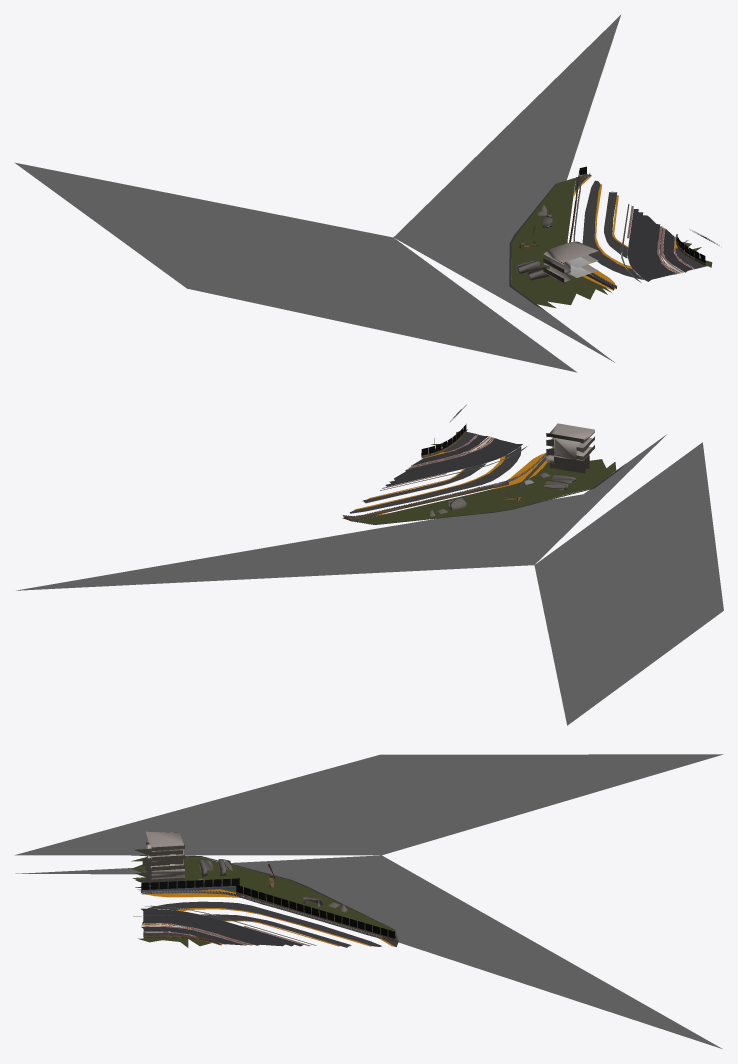
3 renders of one model, top to bottom at view 1: azimuth 30°, elevation 25°; view 2: azimuth 150°, elevation 25°; view 3: azimuth 270°, elevation 25°, orthographic. The views are drawn at different scales.
Parts seen in each view (by area): view 1: merged__lod1; view 2: merged__lod1; view 3: merged__lod1.
Boxes of the visible parts, left/top/right/bottom form: merged__lod1: left=14, top=15, right=719, bottom=372; merged__lod1: left=16, top=404, right=723, bottom=725; merged__lod1: left=15, top=754, right=723, bottom=1048.
Bounding box in the file's own units: 304 × 24.82 × 309.
